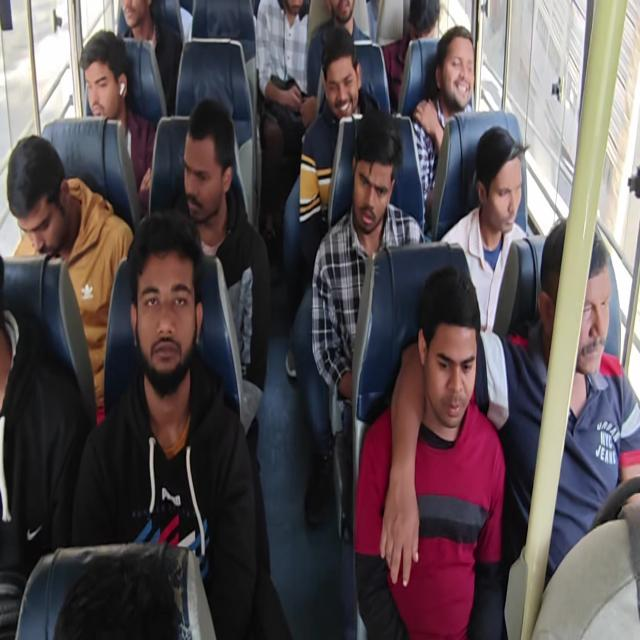person: (51, 571, 213, 640), (546, 244, 616, 380), (128, 253, 189, 382), (6, 150, 74, 264), (426, 300, 477, 438), (175, 118, 231, 220), (480, 138, 526, 235), (349, 144, 391, 248), (83, 43, 127, 119), (104, 0, 157, 51), (442, 36, 476, 112), (328, 49, 359, 119), (406, 0, 438, 46), (325, 0, 359, 33)
